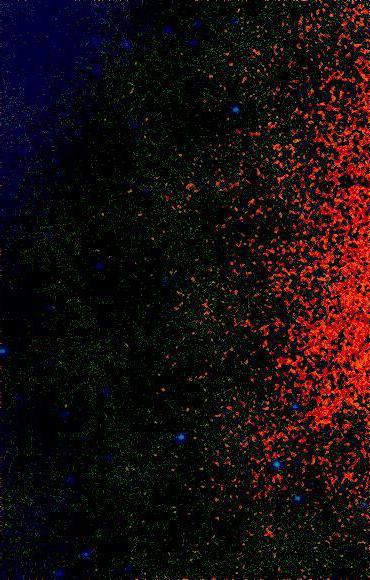star: (51, 390, 81, 420)
